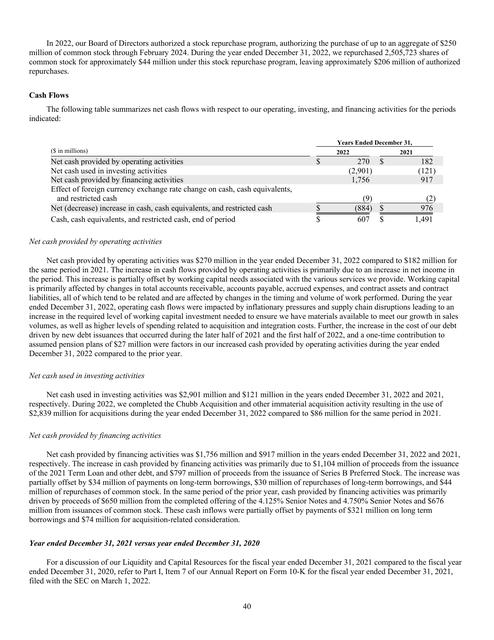box: (49, 139, 445, 225)
